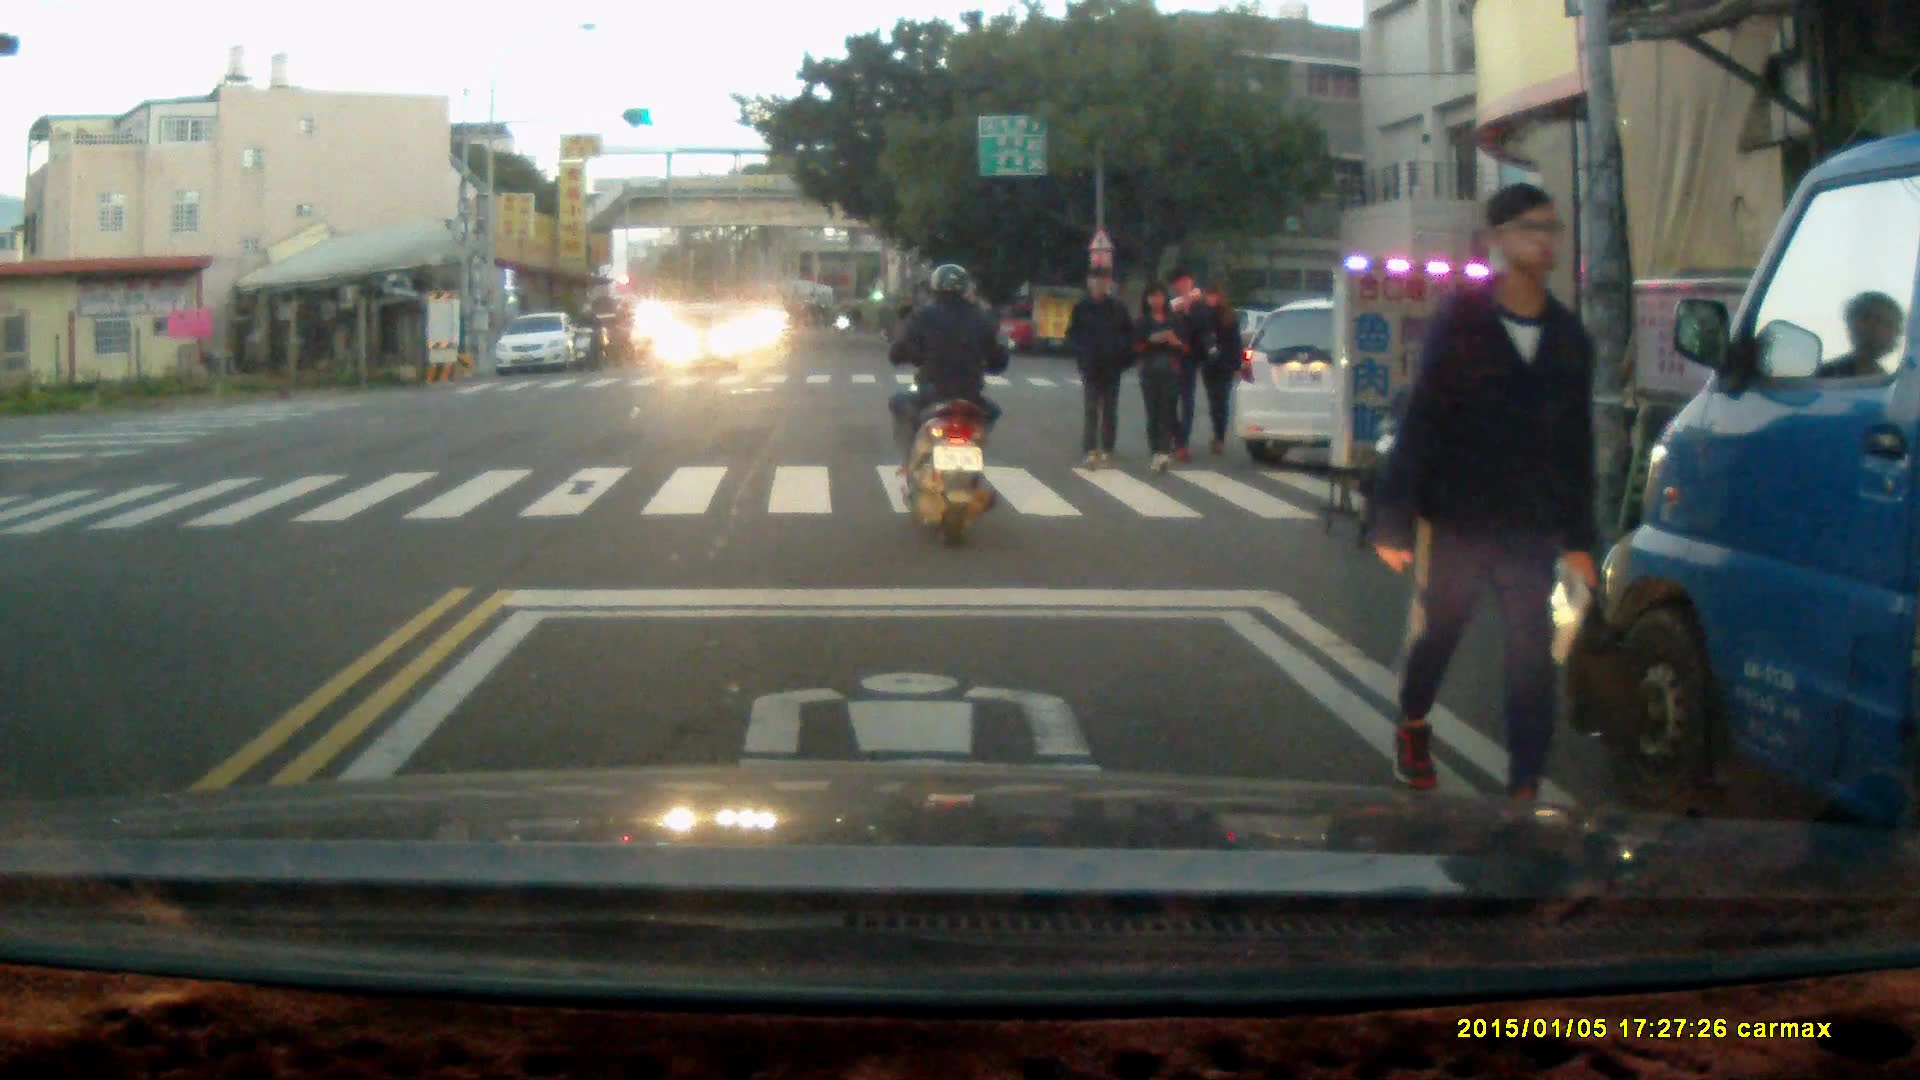pedestrian: (1376, 179, 1603, 833), (1063, 262, 1130, 470), (1130, 280, 1190, 479), (1161, 265, 1206, 466), (1193, 284, 1244, 459)
rider: (885, 260, 1014, 549), (602, 295, 636, 370), (571, 298, 603, 373)
vehicle: (1593, 127, 1920, 893), (1235, 303, 1553, 467), (649, 300, 743, 374), (493, 311, 584, 378)
